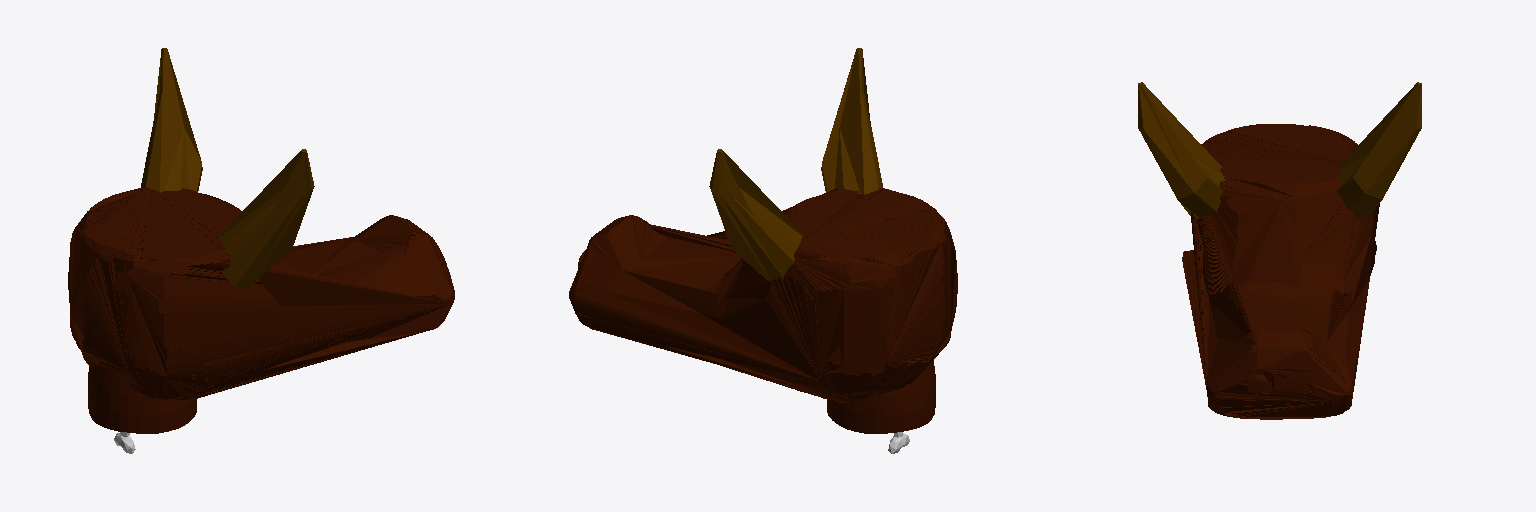
Rendered from minohead.obj.
The picture shows the model from 3 angles: view 1: azimuth 30°, elevation 25°; view 2: azimuth 150°, elevation 25°; view 3: azimuth 270°, elevation 25°; orthographic projection.
Visible parts, largest first — view 1: Cylinder.009; view 2: Cylinder.009; view 3: Cylinder.009.
Part boxes in pixels (left/top/right/bottom): Cylinder.009: left=68, top=48, right=454, bottom=453; Cylinder.009: left=569, top=48, right=957, bottom=453; Cylinder.009: left=1138, top=82, right=1421, bottom=419.
Size of the model in its own units: 2.05 by 1.83 by 1.45.